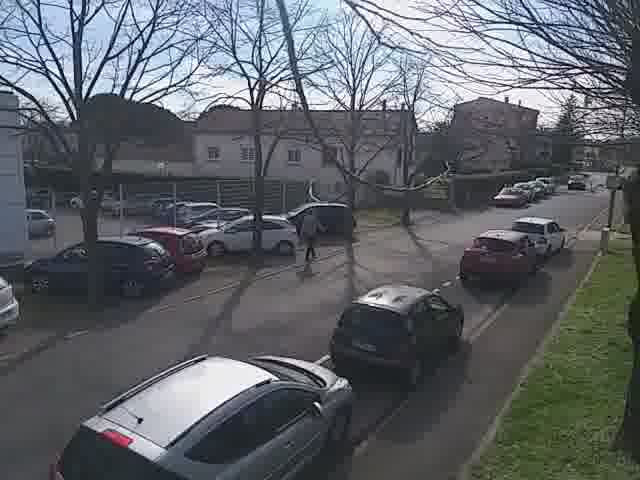persona: (295, 198, 328, 265)
